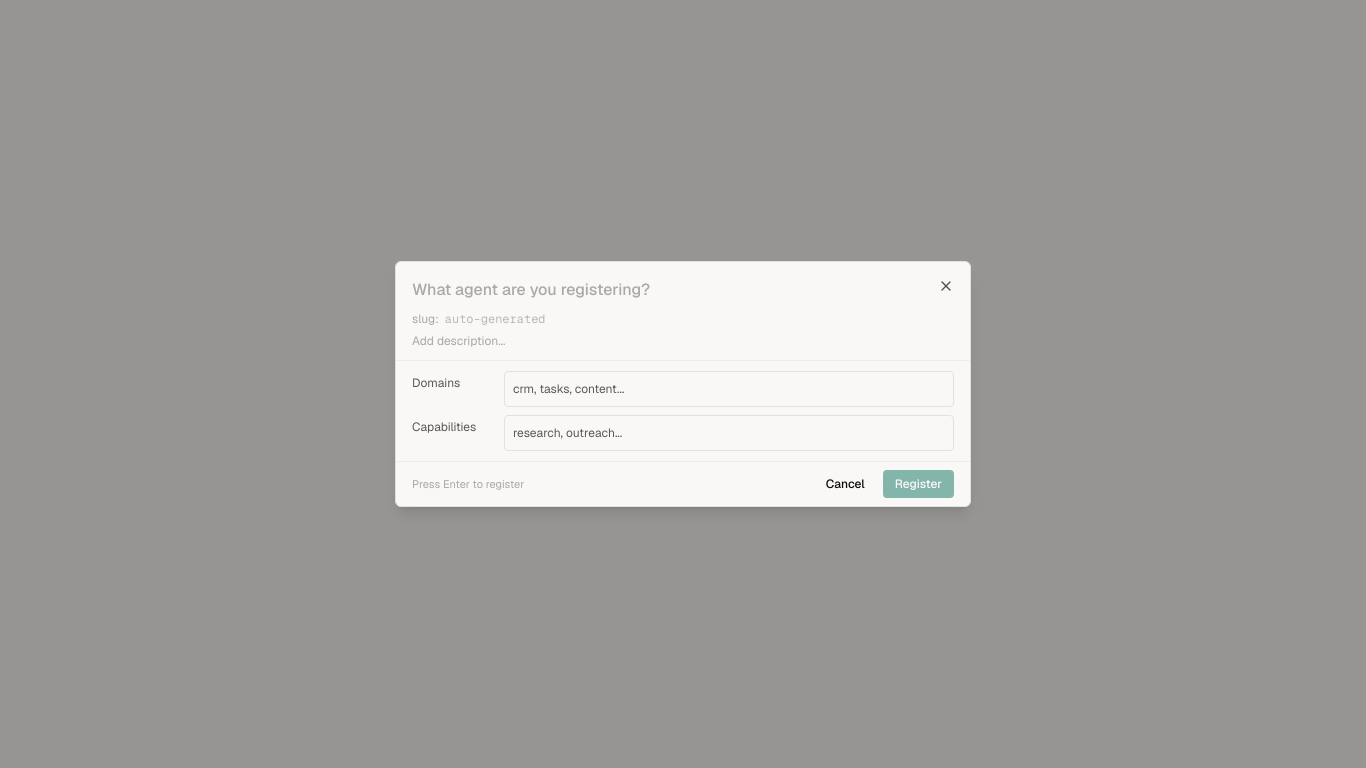
AgentForm › slug auto-generates from name for new agent
The image size is (1366, 768).
Type "My New Agent" into the text box with placeholder "What agent are you registering?". click: (683, 290)
box: [412,278,954,302]
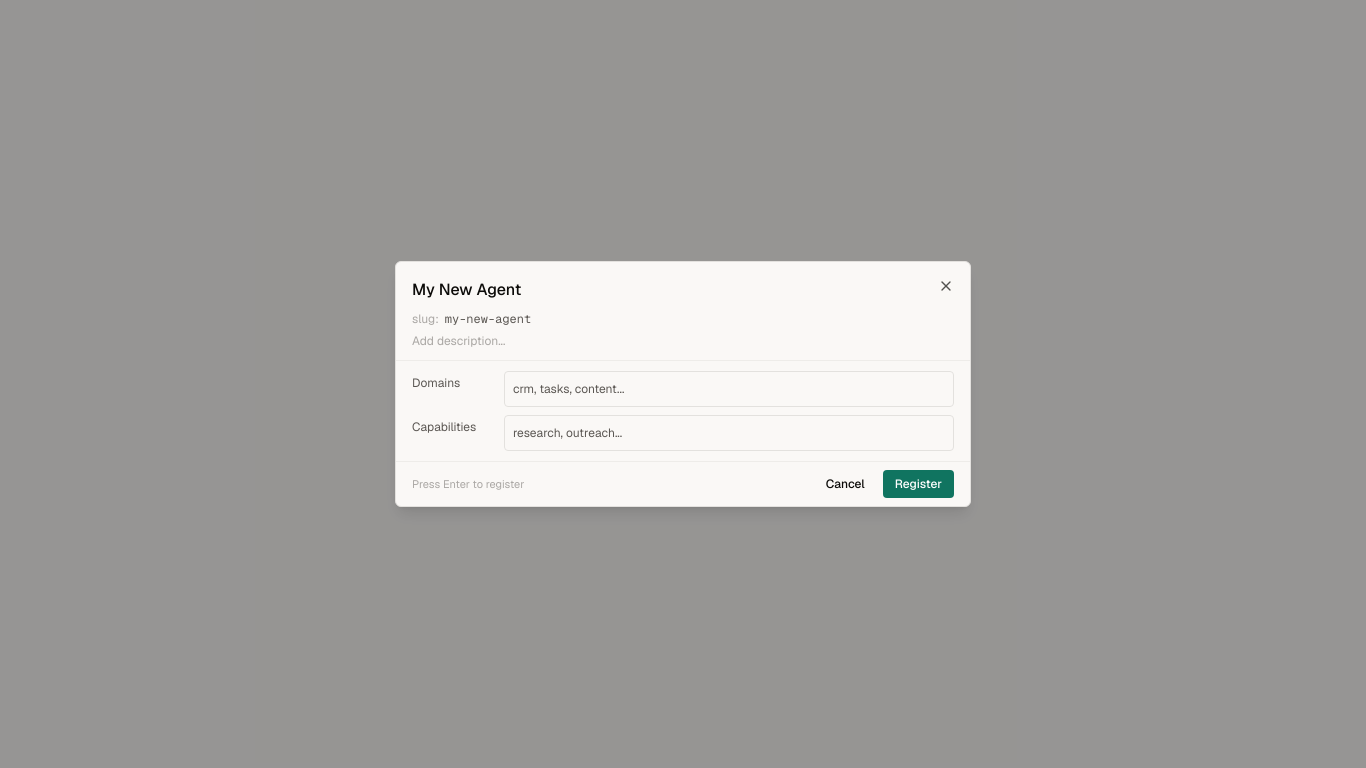
Now the field with placeholder "auto-generated" holds "my-new-agent", box [445,311,954,327]
